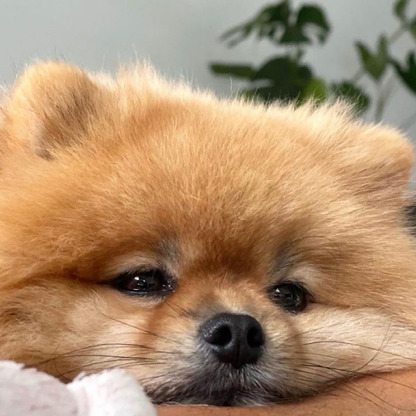Pomeranian: (22, 59, 400, 394)
